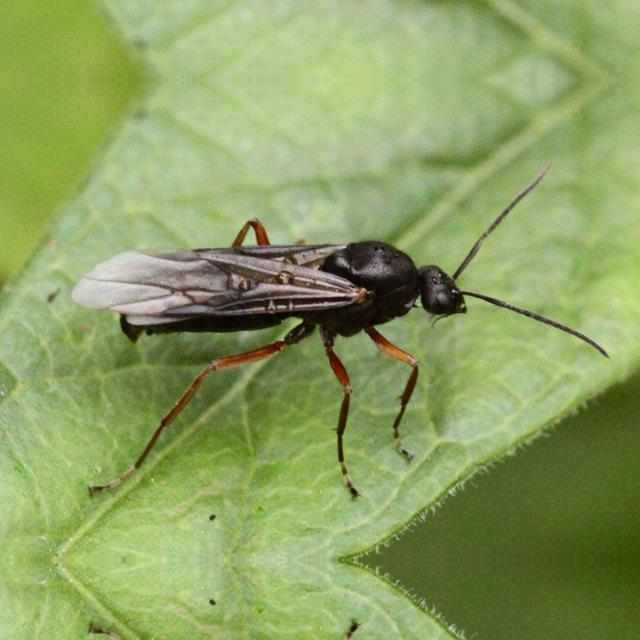Formica: (109, 192, 511, 396)
